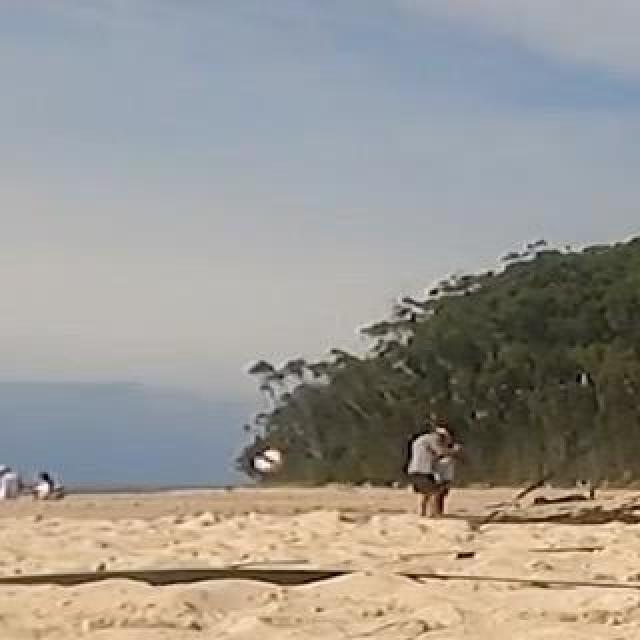volleyball: (255, 448, 283, 476)
